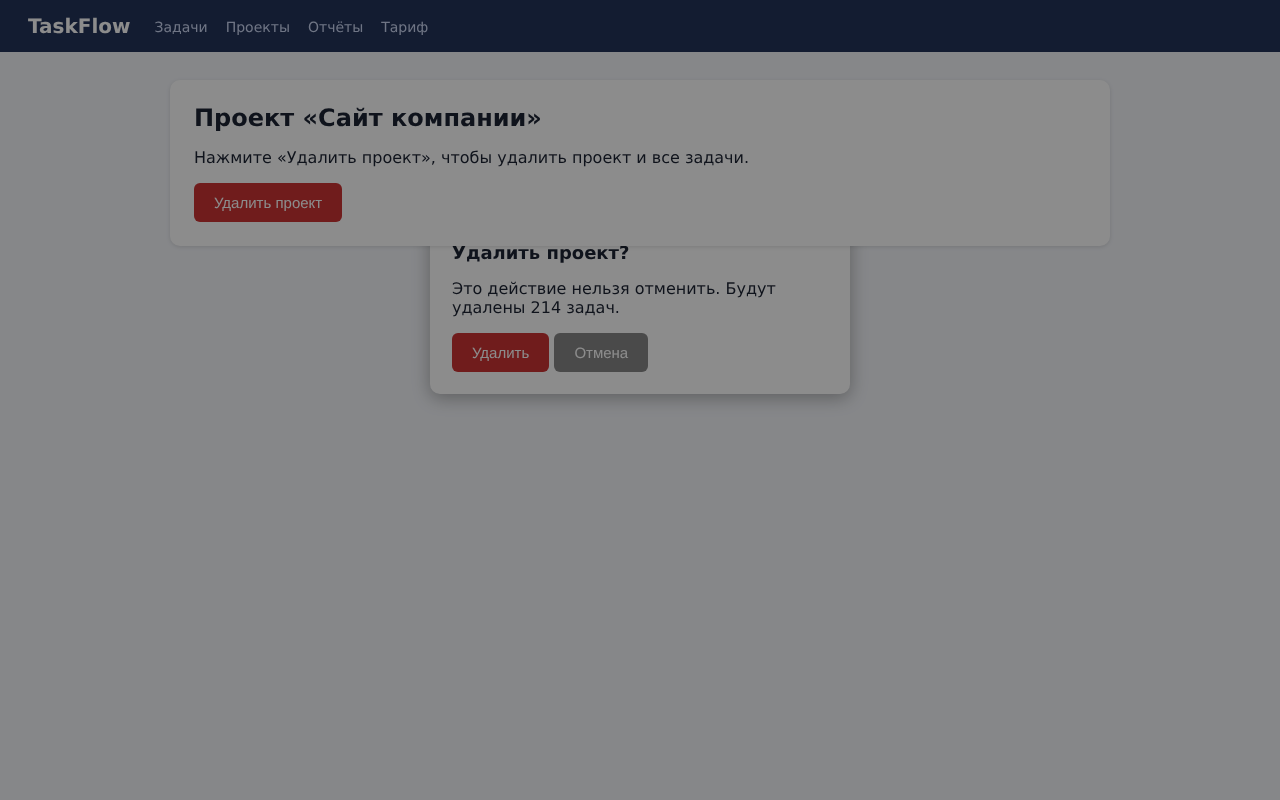DEFECT_AREA: (430, 246, 850, 394)
UI_ELEMENT: (452, 333, 549, 372), (554, 333, 648, 372)
